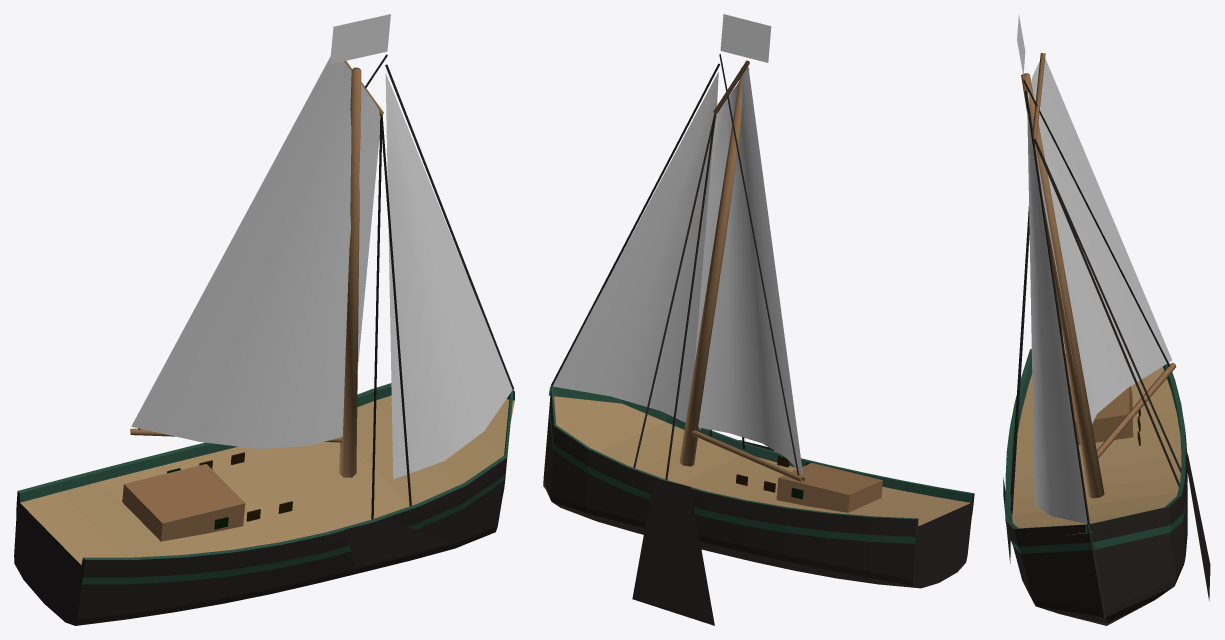
Rendered from hull_botter_medium_sailing.glb.
The picture shows the model from 3 angles, left to right: view 1: azimuth 30°, elevation 25°; view 2: azimuth 150°, elevation 25°; view 3: azimuth 270°, elevation 25°; orthographic projection. The views are drawn at different scales.
Parts seen in each view (by area): view 1: hull_botter_medium_sailing_hull, hull_botter_medium_sailing_sail_main, hull_botter_medium_sailing_sail_jib, hull_botter_medium_sailing_deck, hull_botter_medium_sailing_mast, hull_botter_medium_sailing_rigging, hull_botter_medium_sailing_leeboard-1, hull_botter_medium_sailing_flag, hull_botter_medium_sailing_ports; view 2: hull_botter_medium_sailing_hull, hull_botter_medium_sailing_sail_jib, hull_botter_medium_sailing_sail_main, hull_botter_medium_sailing_leeboard1, hull_botter_medium_sailing_mast, hull_botter_medium_sailing_rigging, hull_botter_medium_sailing_deck, hull_botter_medium_sailing_flag, hull_botter_medium_sailing_boom; view 3: hull_botter_medium_sailing_hull, hull_botter_medium_sailing_sail_main, hull_botter_medium_sailing_sail_jib, hull_botter_medium_sailing_mast, hull_botter_medium_sailing_rigging, hull_botter_medium_sailing_deck, hull_botter_medium_sailing_boom, hull_botter_medium_sailing_leeboard1.
Boxes of the visible parts, x1,y1,x2,y2 form: hull_botter_medium_sailing_hull: (14, 383, 514, 625); hull_botter_medium_sailing_sail_main: (131, 57, 380, 449); hull_botter_medium_sailing_sail_jib: (385, 73, 512, 479); hull_botter_medium_sailing_deck: (122, 464, 245, 541); hull_botter_medium_sailing_mast: (339, 61, 383, 477); hull_botter_medium_sailing_rigging: (138, 54, 514, 519); hull_botter_medium_sailing_leeboard-1: (345, 519, 449, 567); hull_botter_medium_sailing_flag: (330, 14, 390, 64); hull_botter_medium_sailing_ports: (167, 452, 292, 529); hull_botter_medium_sailing_hull: (543, 386, 974, 588); hull_botter_medium_sailing_sail_jib: (552, 72, 718, 429); hull_botter_medium_sailing_sail_main: (694, 62, 802, 474); hull_botter_medium_sailing_leeboard1: (632, 478, 714, 625); hull_botter_medium_sailing_mast: (679, 60, 749, 466); hull_botter_medium_sailing_rigging: (551, 54, 799, 479); hull_botter_medium_sailing_deck: (776, 463, 882, 512); hull_botter_medium_sailing_flag: (720, 14, 771, 62); hull_botter_medium_sailing_boom: (691, 430, 804, 482); hull_botter_medium_sailing_hull: (1005, 349, 1187, 625); hull_botter_medium_sailing_sail_main: (1027, 58, 1172, 423); hull_botter_medium_sailing_sail_jib: (1027, 109, 1087, 523); hull_botter_medium_sailing_mast: (1021, 53, 1104, 498); hull_botter_medium_sailing_rigging: (1010, 80, 1180, 524); hull_botter_medium_sailing_deck: (1070, 385, 1133, 444); hull_botter_medium_sailing_boom: (1097, 362, 1176, 458); hull_botter_medium_sailing_leeboard1: (1187, 452, 1210, 600).
Bounding box in the file's own units: 13.03 × 16.53 × 5.46.
